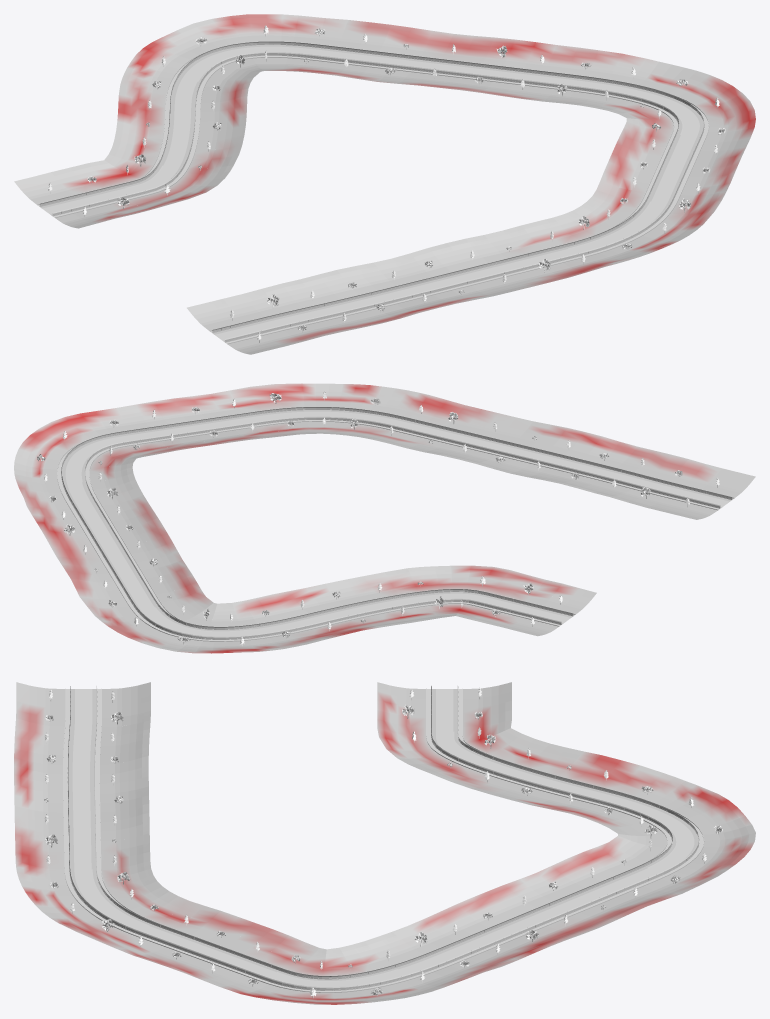
The picture shows the model from 3 angles, top to bottom: view 1: azimuth 30°, elevation 25°; view 2: azimuth 150°, elevation 25°; view 3: azimuth 270°, elevation 25°; orthographic projection. The views are drawn at different scales.
Visible parts, largest first — view 1: Grass, Road, Track, Wirefence, Trees; view 2: Grass, Road, Track, Wirefence, Trees; view 3: Grass, Road, Track, Wirefence, Trees.
Part boxes in pixels (x1,y1,x2,y2): Grass: (14, 14, 755, 354); Road: (42, 46, 699, 340); Track: (37, 41, 709, 344); Wirefence: (40, 41, 704, 341); Trees: (48, 25, 725, 342); Grass: (14, 383, 755, 653); Road: (66, 411, 729, 636); Track: (57, 407, 734, 641); Wirefence: (61, 407, 732, 639); Trees: (37, 391, 719, 645); Grass: (14, 682, 755, 1004); Road: (73, 689, 694, 986); Track: (63, 686, 704, 992); Wirefence: (68, 686, 699, 989); Trees: (44, 688, 722, 997).
Size of what is drawn, in the model's own units: 79776 by 1702 by 77091.
